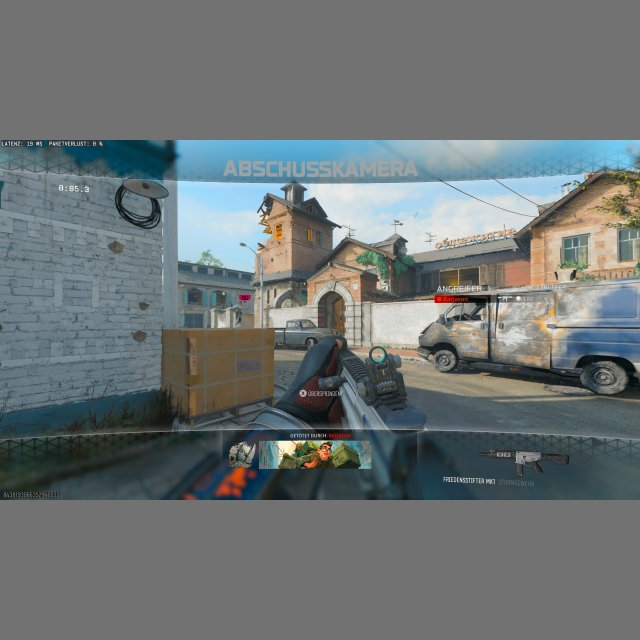player: (234, 304, 243, 324)
